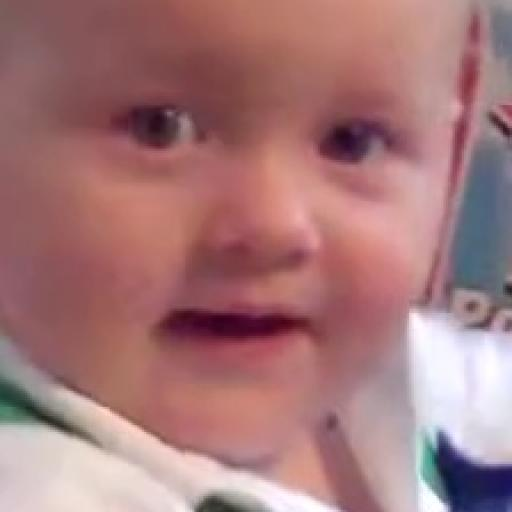Autism: (10, 5, 512, 482)
